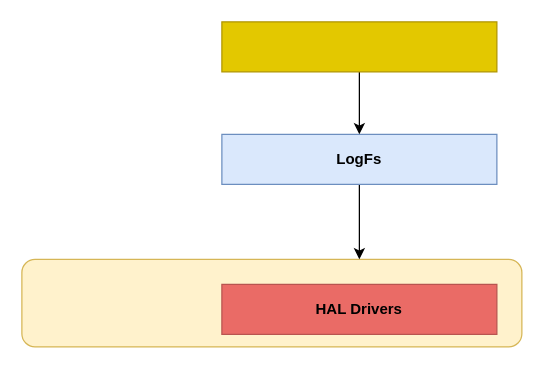
This 544x369 diagram has some shape labels left out. The shapes that lost their labels are listed below. From the top down, each one's box as (x1, y1, x2, y2) in pixels, then its label:
(221, 21, 497, 72): User Application
(21, 258, 522, 347): Wrapper
